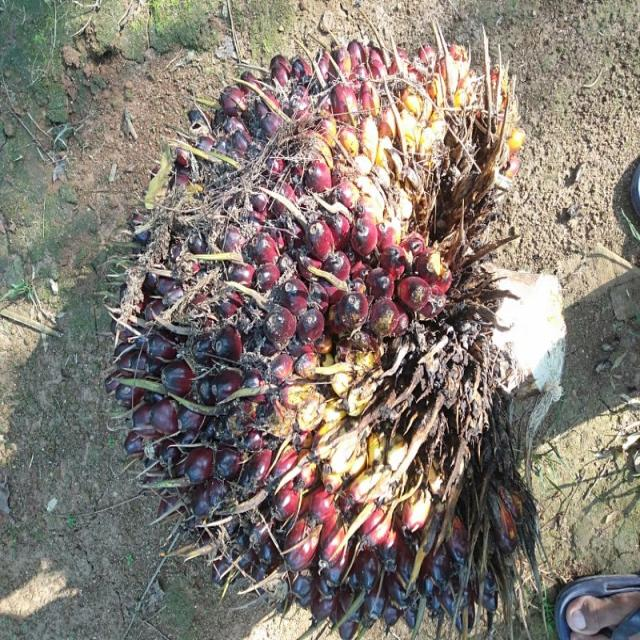fraksi 1: (60, 13, 628, 640)
